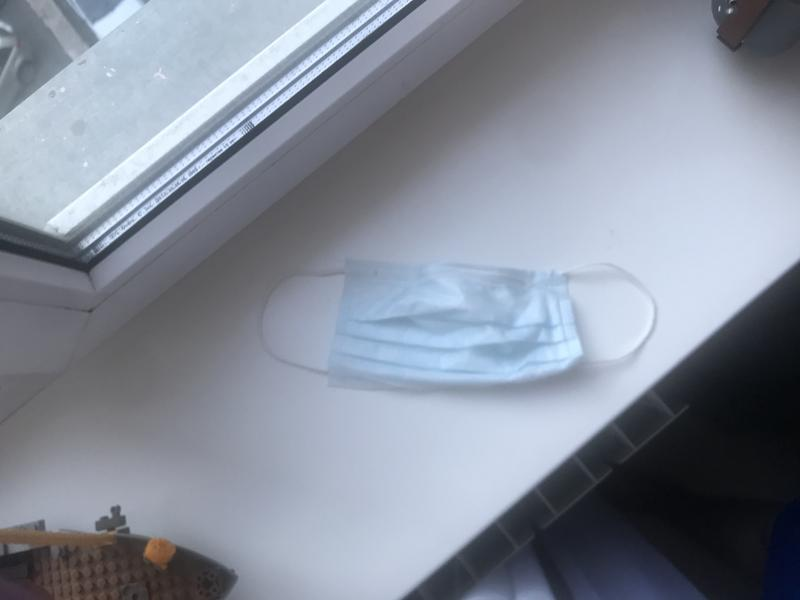medical_mask: (258, 266, 659, 385)
